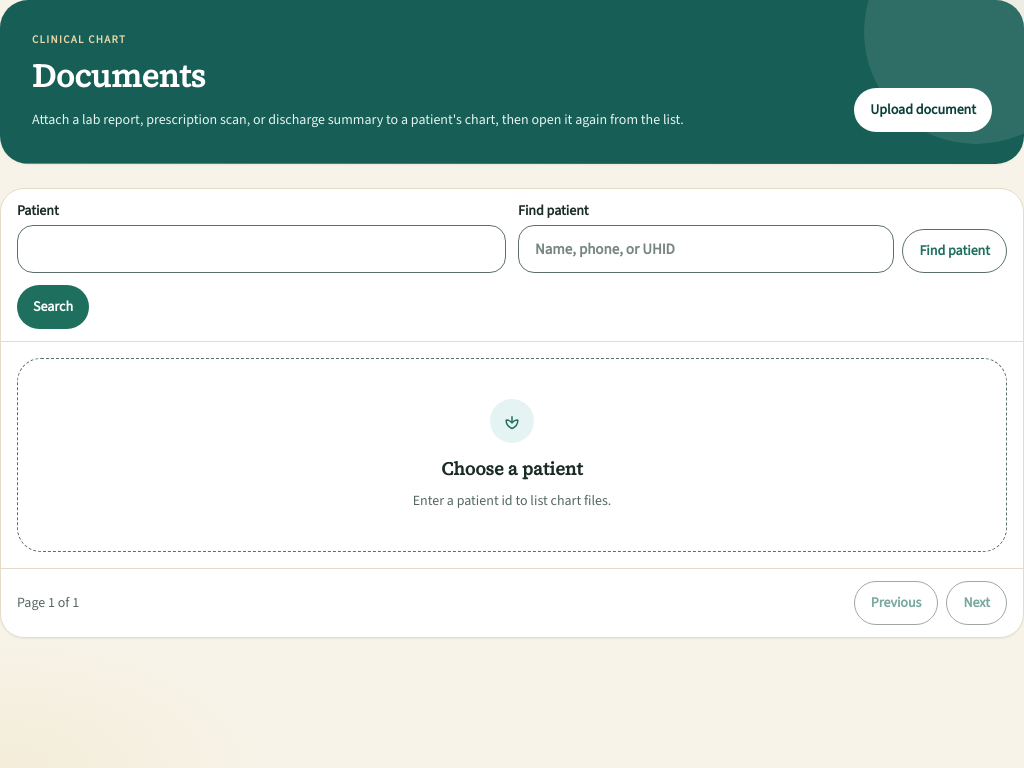
Test: DocumentsPage › shows an error and retries
In the field labelled "Patient": (262, 249) [17,225,506,273], type "11111111-1111-1111-1111-111111111111"
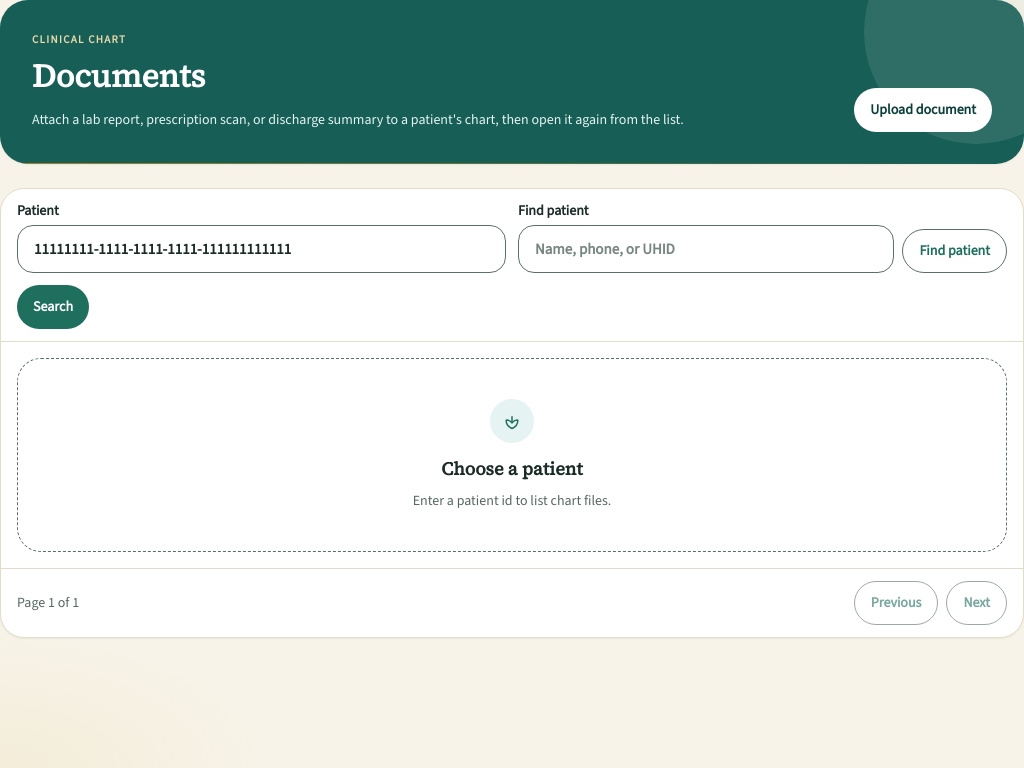
Click the button "Search": (53, 307) [17,285,89,329]
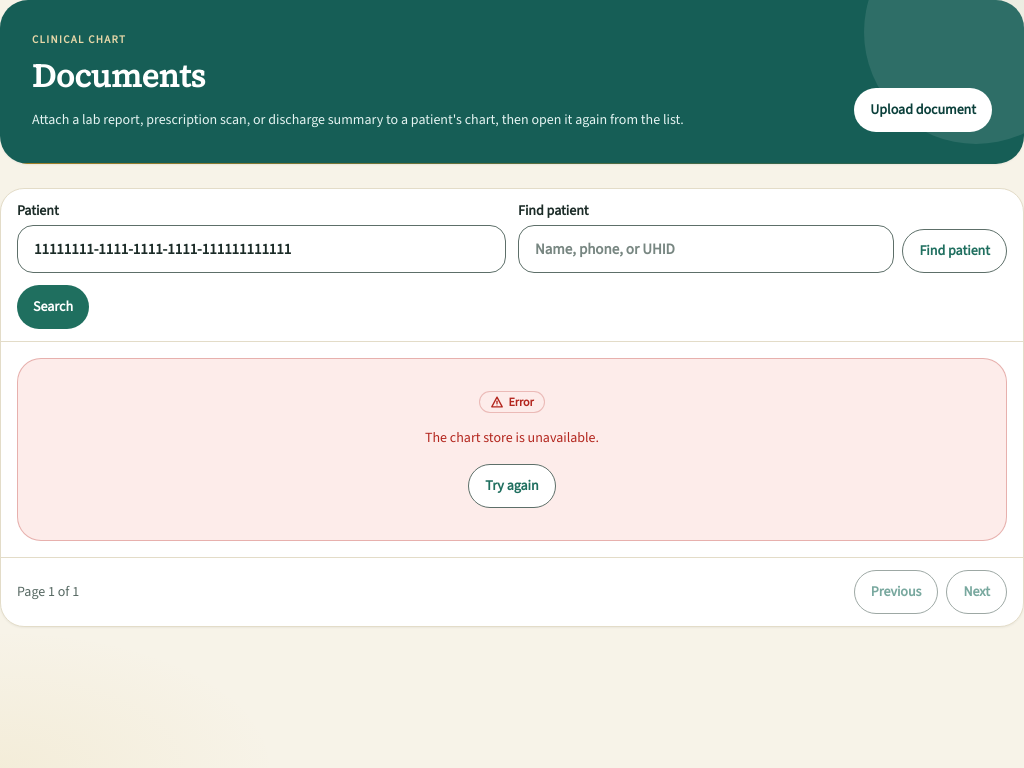
Result: the text "The chart store is unavailable." is shown at [425,428,599,447]
Click the button "Try again": (512, 486) [468,464,556,508]
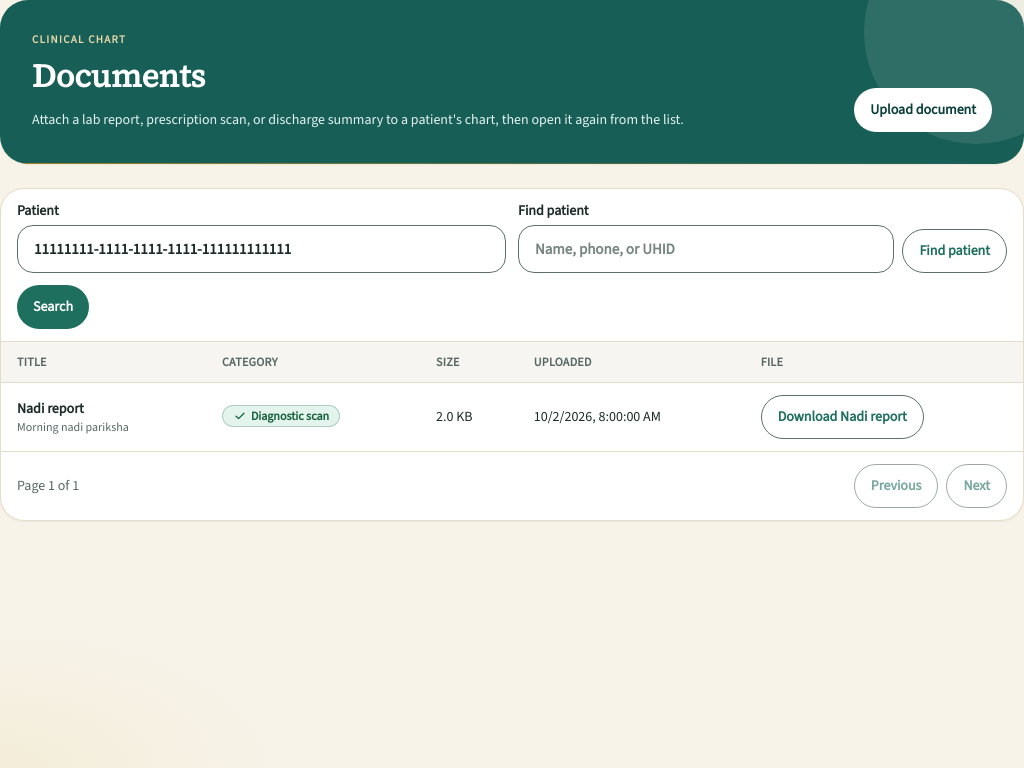
Result: the text "Nadi report" is shown at [17,399,84,418]
